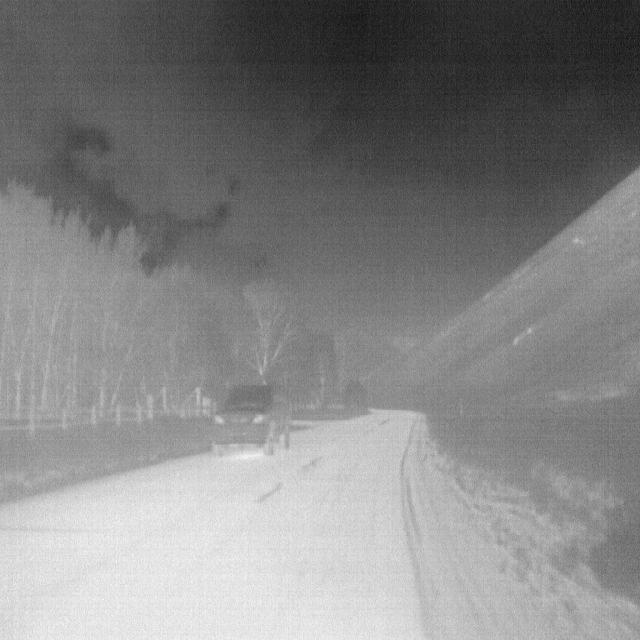Vehicle: (211, 382, 278, 448)
